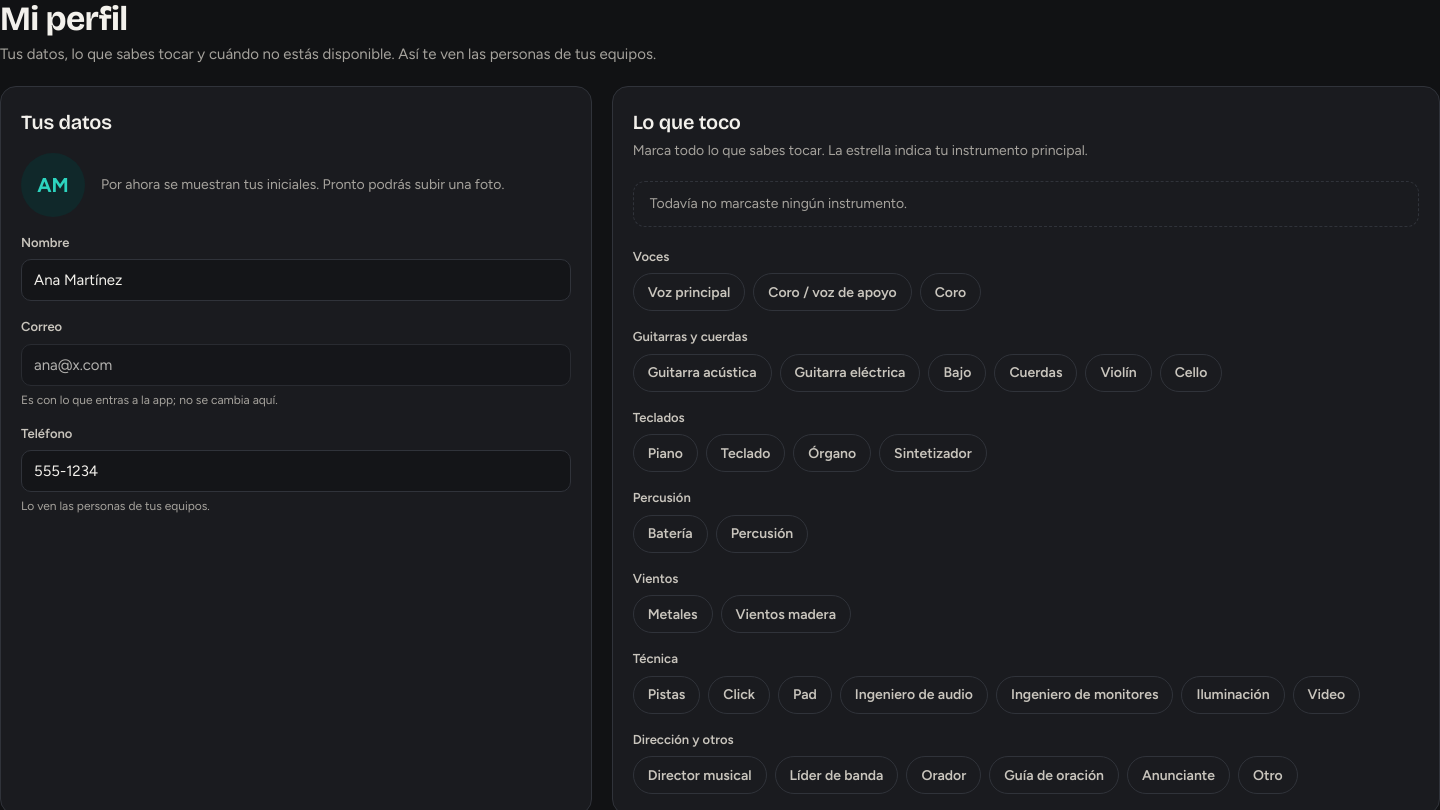
Test case: ProfilePage › sin instrumentos muestra el estado vacío y el primero que elige queda como principal
Check: the text "Todavía no marcaste ningún instrumento." is shown, box [633,181,1419,227]
Click the button "Guitarra eléctrica" at (850,373), box [780,354,920,392]
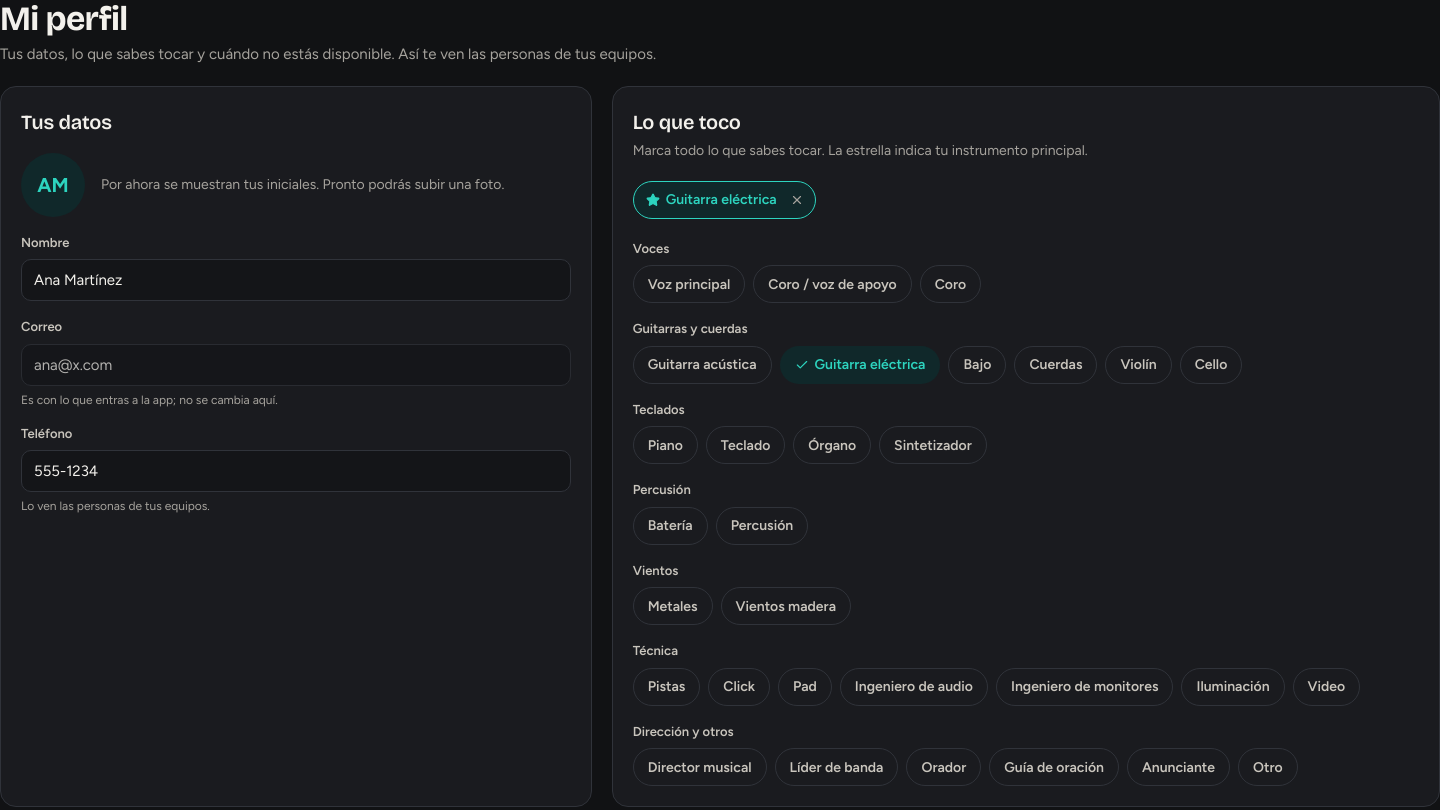
Check: the icon named "Principal" is shown, box [646,193,660,207]
